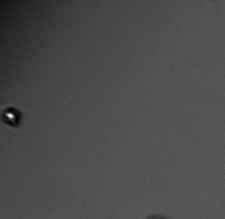Living Cell: (2, 108, 23, 127)
